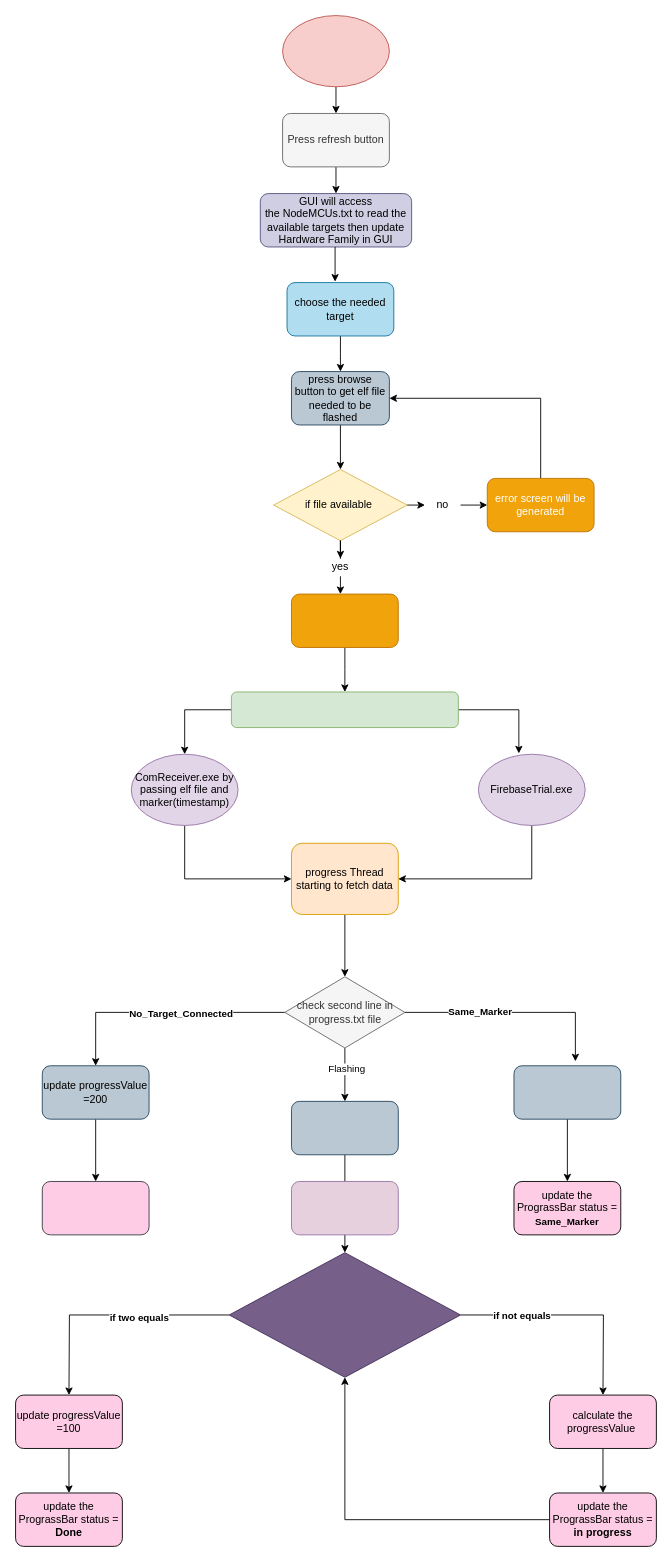
The diagram is 672 pixels wide and 1562 high, and some of its shapes have lost their labels. The shapes that lost their labels are listed below. From the top down, each one's centre as x and y in pixels, then its label:
the point at 335,51: gui_fota_v2.exe
the point at 344,620: press upload button to start the operation
the point at 344,709: the import thread will start and calling two file
the point at 567,1092: update progressValue=300
the point at 344,1127: update progressValue =0
the point at 95,1208: update the PrograssBar status = No_Target_Connected
the point at 344,1208: update the PrograssBar status = Setup
the point at 344,1314: check the MaxIteration and SingleIteration in progress.txt has
